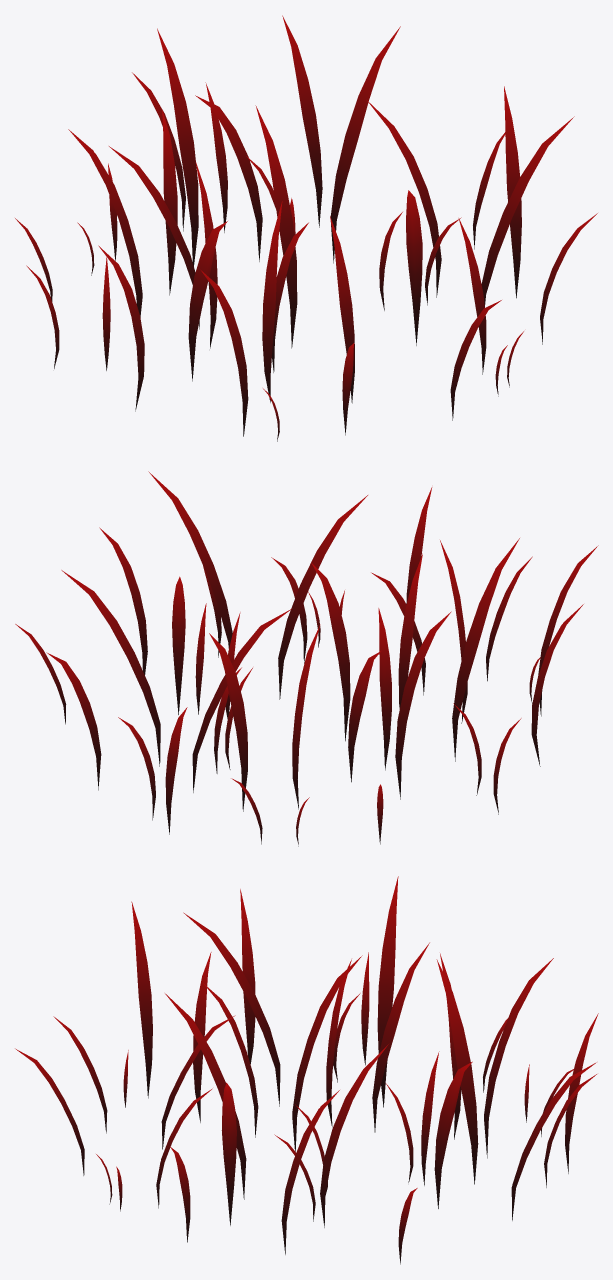
File: StylisedGrass.fbx
3 views of the same model, one above another, from view 1: azimuth 30°, elevation 25°; view 2: azimuth 150°, elevation 25°; view 3: azimuth 270°, elevation 25° (orthographic). The views are drawn at different scales.
Visible parts, largest first — view 1: Grass; view 2: Grass; view 3: Grass.
Boxes of the visible parts, box(x1,y1,x2,y2) form: Grass: box(15, 15, 597, 441); Grass: box(15, 471, 598, 846); Grass: box(15, 876, 598, 1264).
Bounding box in the file's own units: 1.19 × 0.4947 × 1.28.
